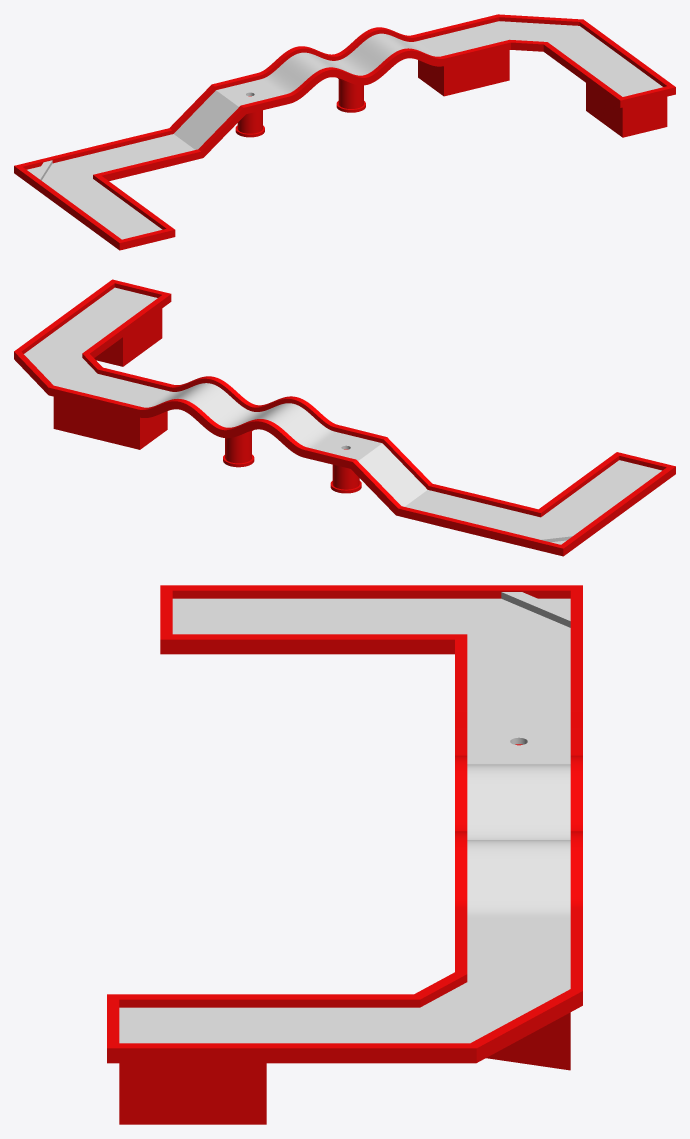
Rendered from BahnM11.fbx.
3 renders of one model, top to bottom at view 1: azimuth 30°, elevation 25°; view 2: azimuth 150°, elevation 25°; view 3: azimuth 270°, elevation 25°, orthographic. The views are drawn at different scales.
Parts seen in each view (by area): view 1: Track11; view 2: Track11; view 3: Track11.
Part boxes in pixels (x1,y1,x2,y2): Track11: (14,14,675,250); Track11: (14,279,675,556); Track11: (107,585,582,1124).
Size of the model in its own units: 851 by 86 by 323.
